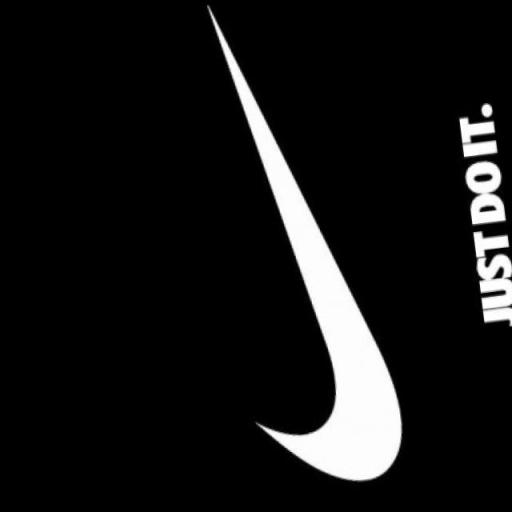Nike: (194, 0, 417, 498)
